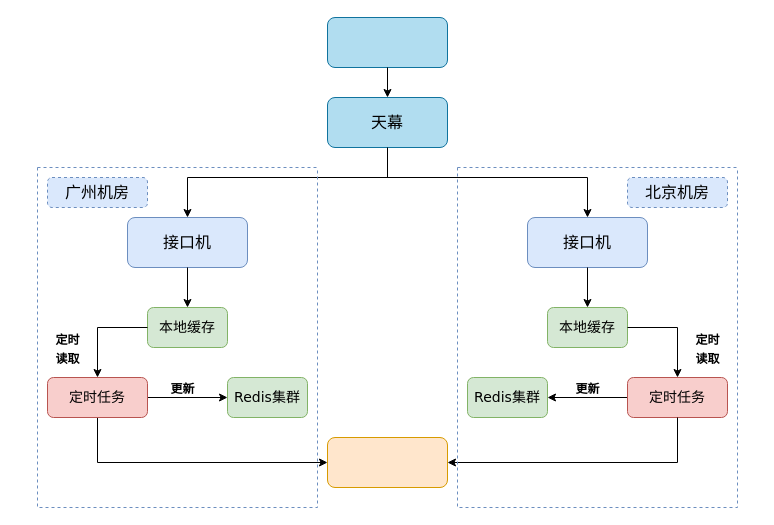
Image size: 774x525. Some labels were removed from this diagram. Each missing label, with the centre of its shape:
"广告接口服务" goes at [387,42].
"统计库" goes at [387,462].
